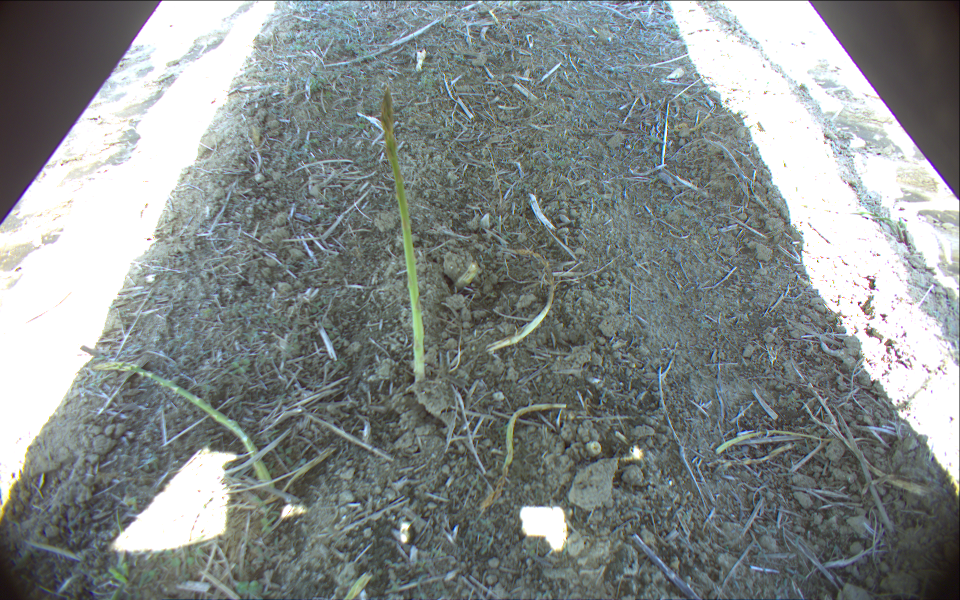aspa: (92, 362, 275, 491), (382, 85, 425, 386), (486, 404, 568, 506), (715, 429, 836, 458), (344, 569, 372, 600)
